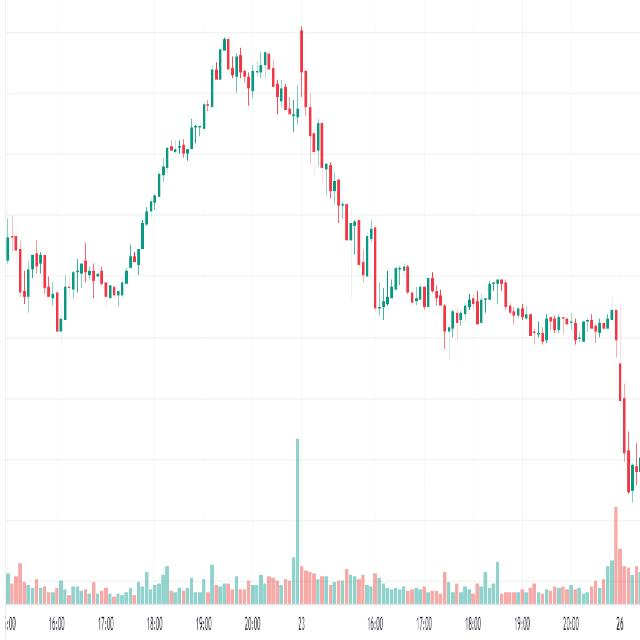Rounding-Top: (129, 23, 375, 221)
